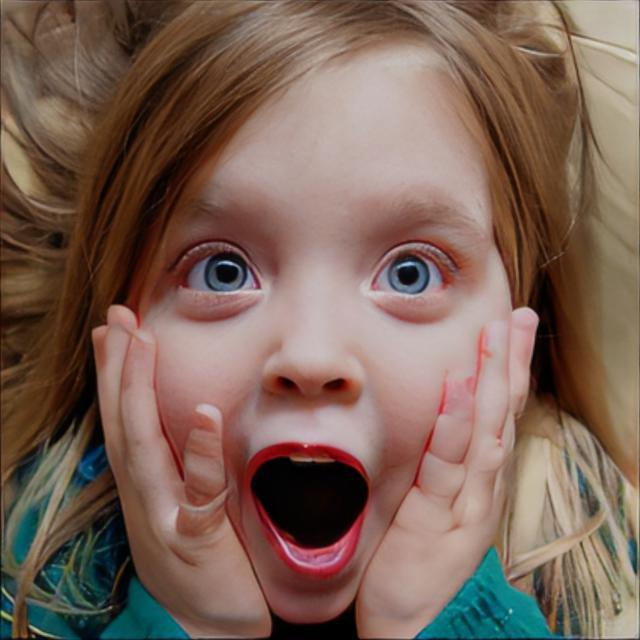surprise: (121, 30, 510, 626)
